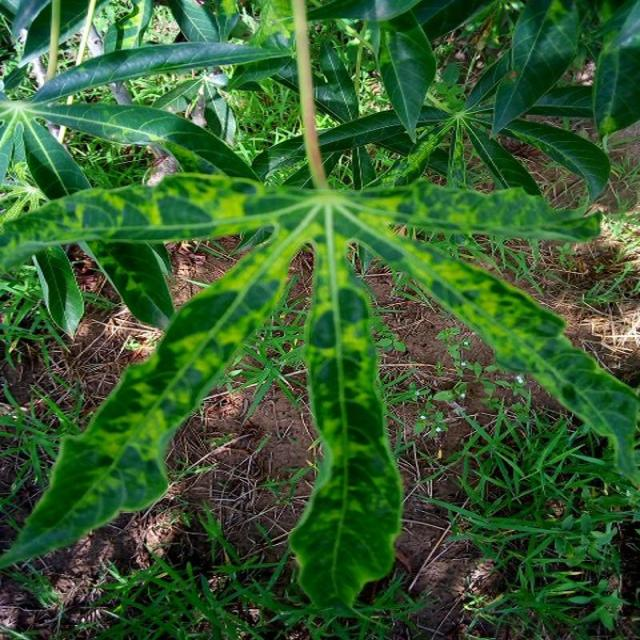Mosaico: (31, 163, 621, 541)
